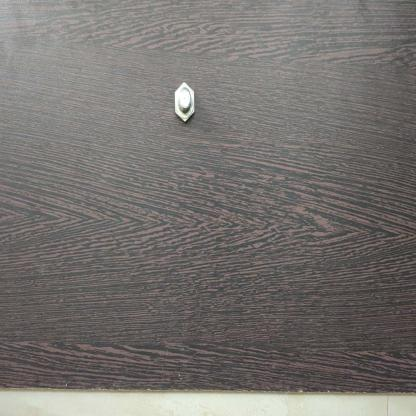Bolts: (173, 78, 198, 125)
